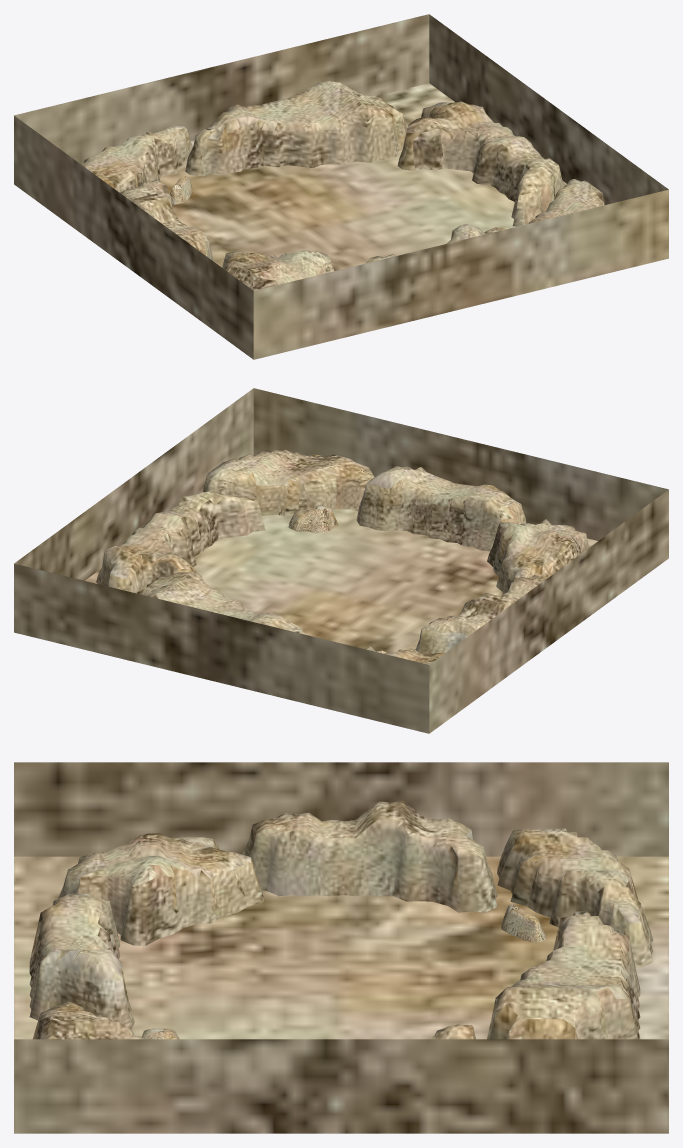
Rendered from map40_CHK.fbx.
3 views of the same model, one above another, from view 1: azimuth 30°, elevation 25°; view 2: azimuth 150°, elevation 25°; view 3: azimuth 270°, elevation 25° (orthographic). The views are drawn at different scales.
Visible parts, largest first — view 1: map40_CHK:Layer1, map40_CHK:Layer8, map40_CHK:Layer2, map40_CHK:Layer7, map40_CHK:Layer5, map40_CHK:Layer6, map40_CHK:Layer3, map40_CHK:Layer4; view 2: map40_CHK:Layer1, map40_CHK:Layer4, map40_CHK:Layer2, map40_CHK:Layer3, map40_CHK:Layer5, map40_CHK:Layer6, map40_CHK:Layer8, map40_CHK:Layer9, map40_CHK:Layer7; view 3: map40_CHK:Layer1, map40_CHK:Layer6, map40_CHK:Layer5, map40_CHK:Layer8, map40_CHK:Layer7, map40_CHK:Layer4, map40_CHK:Layer3, map40_CHK:Layer10, map40_CHK:Layer2.
Part boxes in pixels (<box>): map40_CHK:Layer1: <box>14,14,668,359</box>; map40_CHK:Layer8: <box>185,81,407,176</box>; map40_CHK:Layer2: <box>397,101,564,226</box>; map40_CHK:Layer7: <box>81,125,192,192</box>; map40_CHK:Layer5: <box>222,250,334,290</box>; map40_CHK:Layer6: <box>120,179,213,260</box>; map40_CHK:Layer3: <box>528,179,605,223</box>; map40_CHK:Layer4: <box>365,224,484,263</box>; map40_CHK:Layer1: <box>14,388,668,733</box>; map40_CHK:Layer4: <box>356,466,526,551</box>; map40_CHK:Layer2: <box>96,491,265,593</box>; map40_CHK:Layer3: <box>203,450,374,516</box>; map40_CHK:Layer5: <box>487,519,589,593</box>; map40_CHK:Layer6: <box>416,575,547,654</box>; map40_CHK:Layer8: <box>137,571,306,634</box>; map40_CHK:Layer9: <box>288,504,338,533</box>; map40_CHK:Layer7: <box>366,646,444,664</box>; map40_CHK:Layer1: <box>14,762,668,1133</box>; map40_CHK:Layer6: <box>242,801,497,912</box>; map40_CHK:Layer5: <box>58,833,263,945</box>; map40_CHK:Layer8: <box>487,911,640,1039</box>; map40_CHK:Layer7: <box>497,828,653,967</box>; map40_CHK:Layer4: <box>29,893,134,1031</box>; map40_CHK:Layer3: <box>33,1001,144,1039</box>; map40_CHK:Layer10: <box>501,904,545,943</box>; map40_CHK:Layer2: <box>430,1024,475,1039</box>.
Size of the model in its own units: 2.52 by 0.4088 by 2.52.
1 material, 1 textured.
